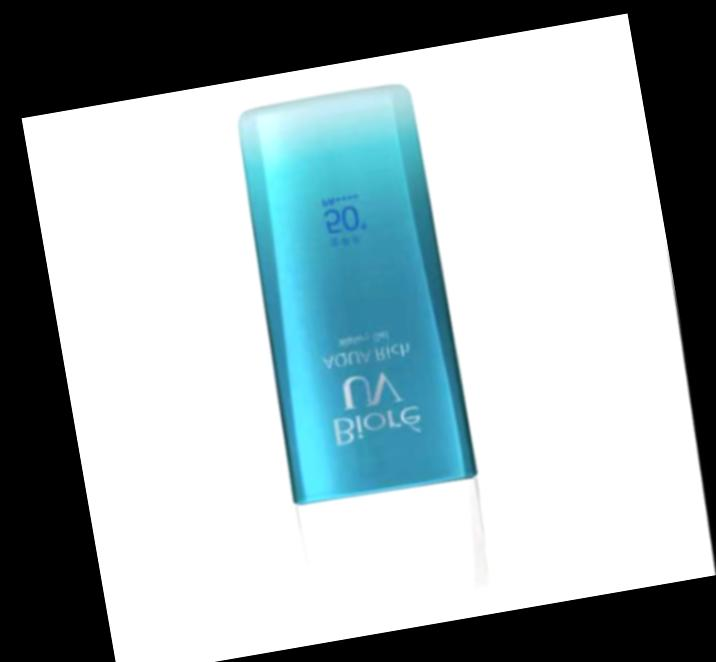cosmetic: (215, 77, 507, 627)
